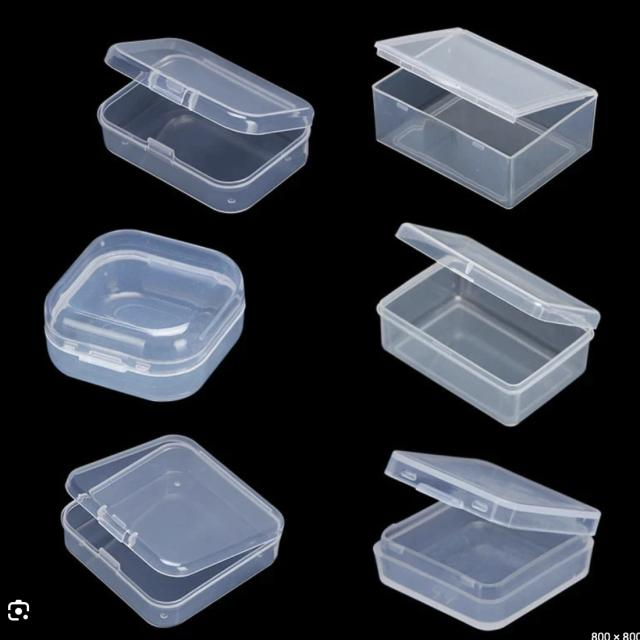recyclable: (358, 211, 616, 423), (51, 427, 292, 631), (369, 11, 608, 212), (362, 437, 598, 634), (90, 26, 324, 216), (39, 213, 258, 403)
